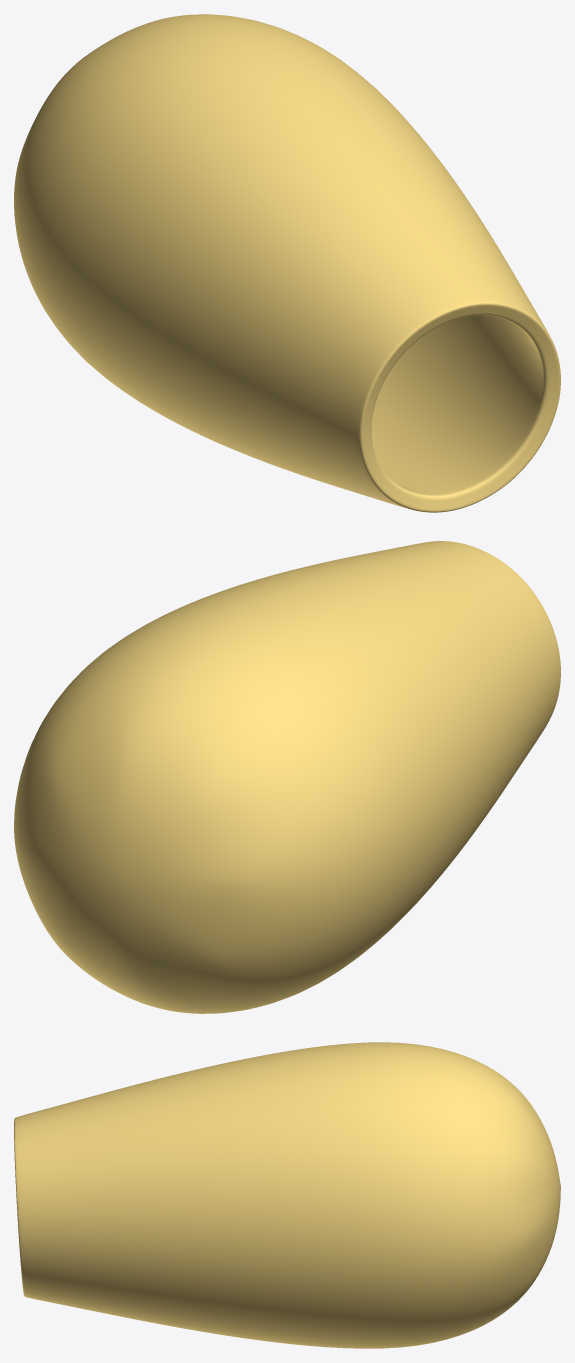
File: CannonNozzle.glb
3 renders of one model, top to bottom at view 1: azimuth 30°, elevation 25°; view 2: azimuth 150°, elevation 25°; view 3: azimuth 270°, elevation 25°, orthographic. The views are drawn at different scales.
Visible parts, largest first — view 1: pCylinder5; view 2: pCylinder5; view 3: pCylinder5.
Part boxes in pixels (left/top/right/bottom): pCylinder5: left=14, top=14, right=560, bottom=512; pCylinder5: left=14, top=541, right=560, bottom=1013; pCylinder5: left=14, top=1042, right=560, bottom=1348.
Size of the model in its own units: 6.31 by 6.31 by 11.26.
